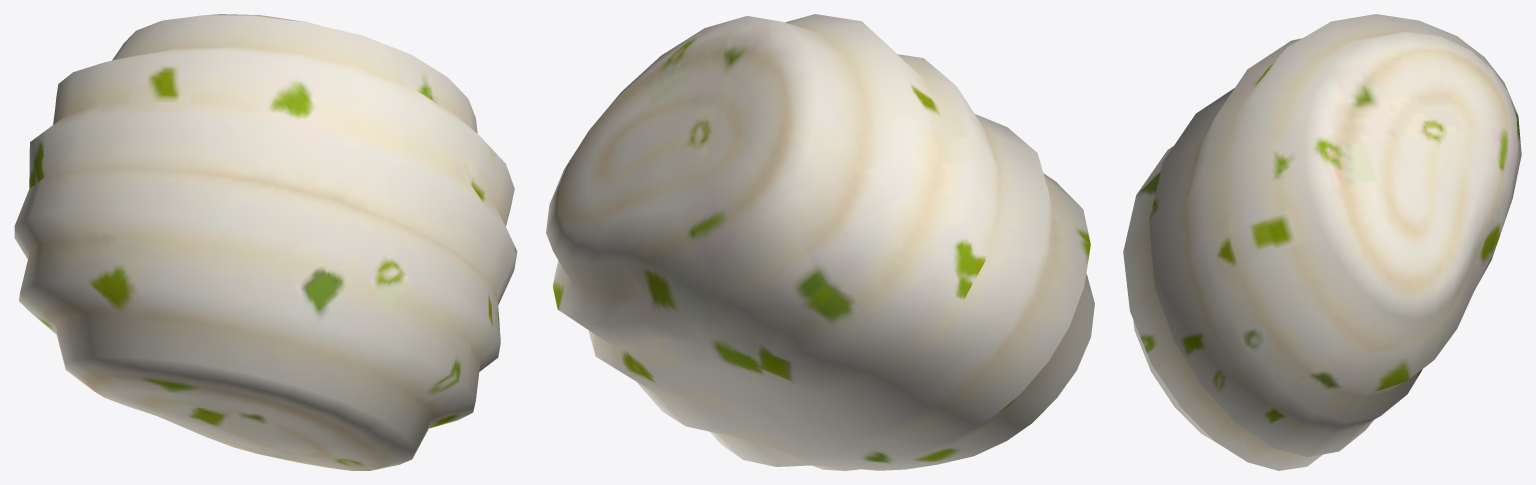
Rendered from BFFlowerRoll.obj.
3 views of the same model, side by side, from view 1: azimuth 30°, elevation 25°; view 2: azimuth 150°, elevation 25°; view 3: azimuth 270°, elevation 25° (orthographic). The views are drawn at different scales.
Parts seen in each view (by area): view 1: huaJuan; view 2: huaJuan; view 3: huaJuan.
Part boxes in pixels (x1,y1,x2,y2): huaJuan: (14,14,517,470); huaJuan: (546,14,1094,470); huaJuan: (1123,14,1521,470).
Size of the model in its own units: 1.65 by 1.45 by 1.35.
